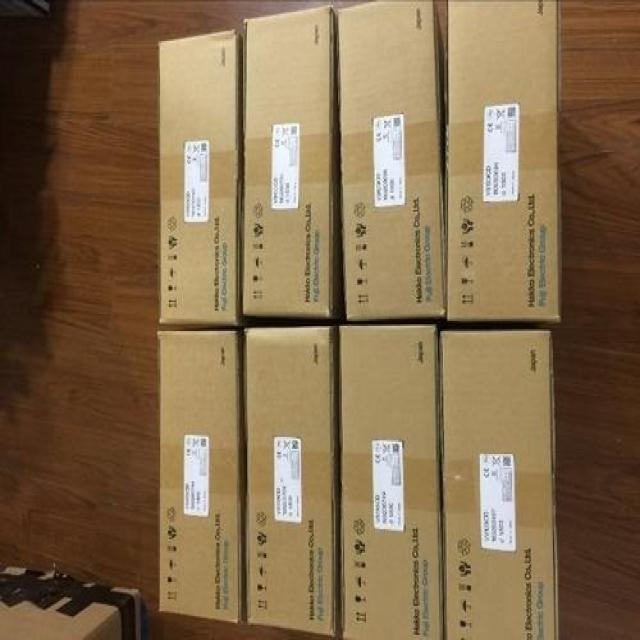box: (444, 0, 563, 329), (440, 329, 559, 640), (338, 0, 447, 319), (339, 324, 444, 640), (242, 5, 346, 317), (244, 326, 343, 635), (159, 331, 247, 623), (159, 29, 244, 328), (0, 565, 150, 640)
